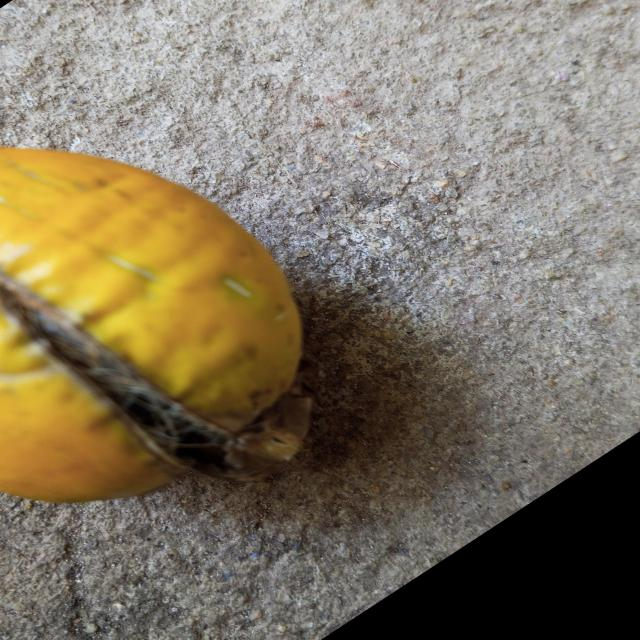damaged: (0, 147, 312, 502)
